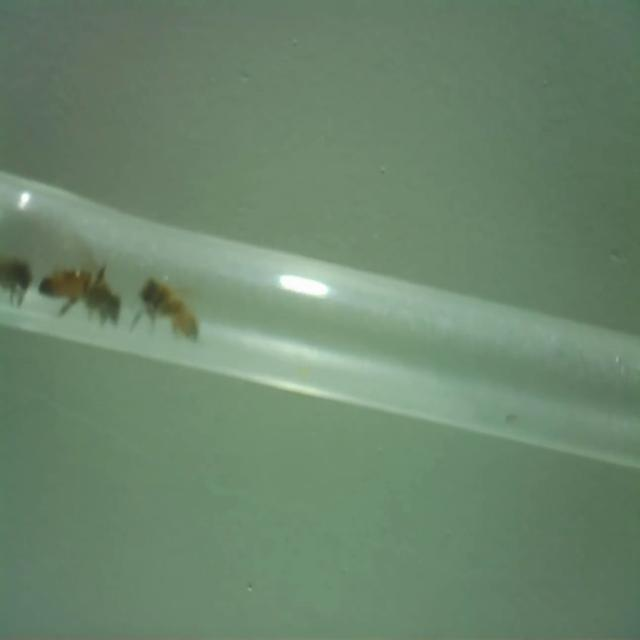Honeybee-Detection: (38, 264, 120, 324), (131, 274, 201, 343), (0, 242, 33, 307)
